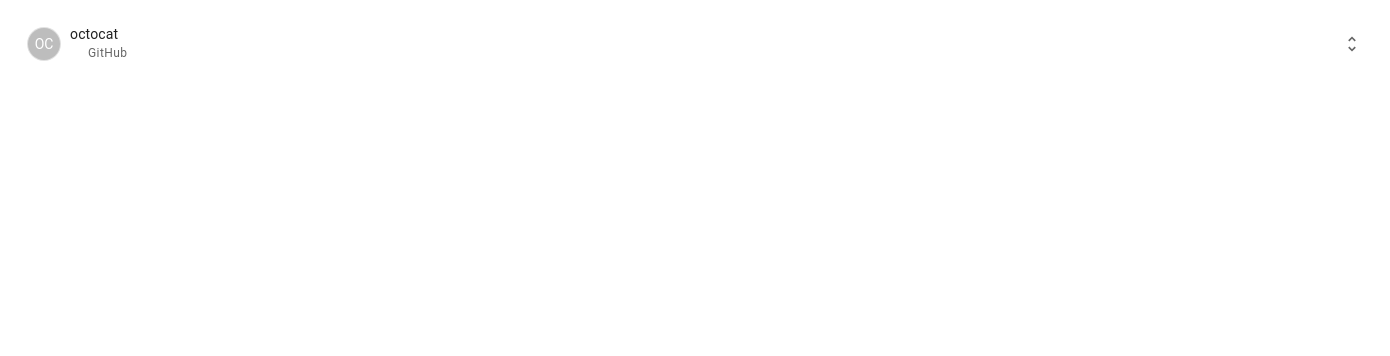
Scenario: Account › a source build without a source URL shows the release and the commit as plain text
Click the button "OC octocat GitHub".
click(44, 44)  # box [12, 12, 1378, 76]
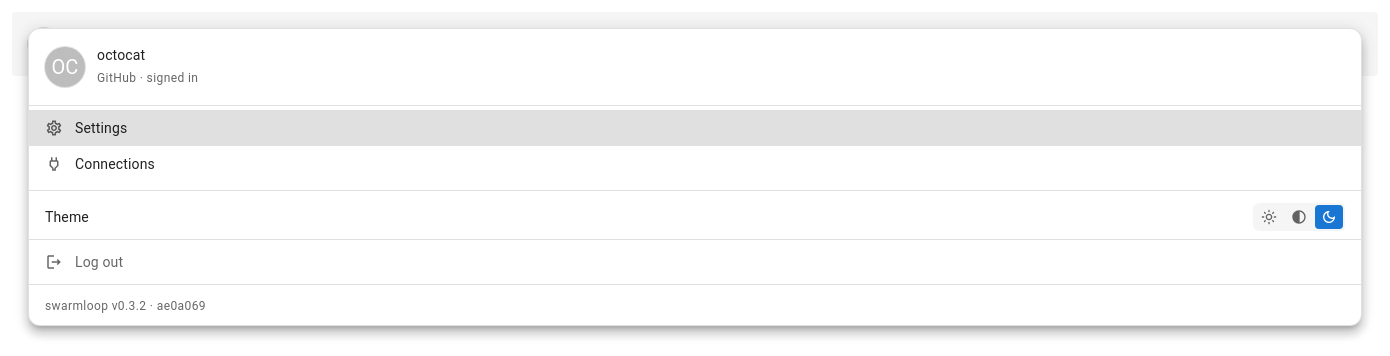
expect the text "swarmloop v0.3.2 · ae0a069" is shown: met, box [45, 299, 206, 313]
